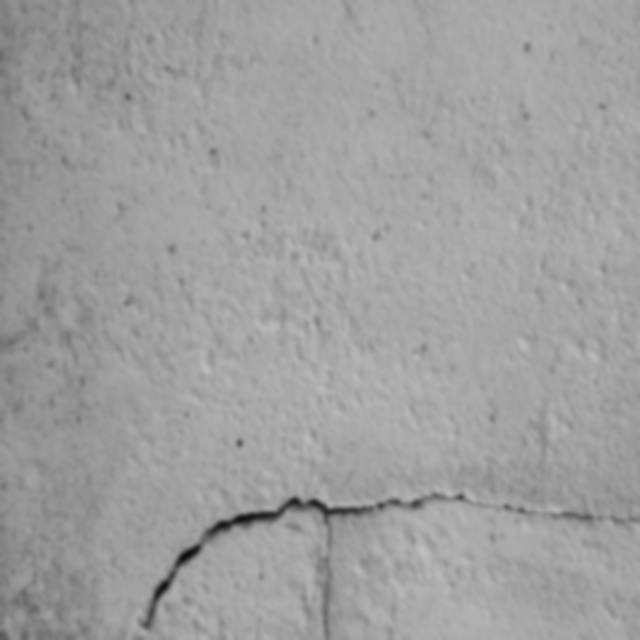SurfaceCrack: (109, 465, 640, 635)
